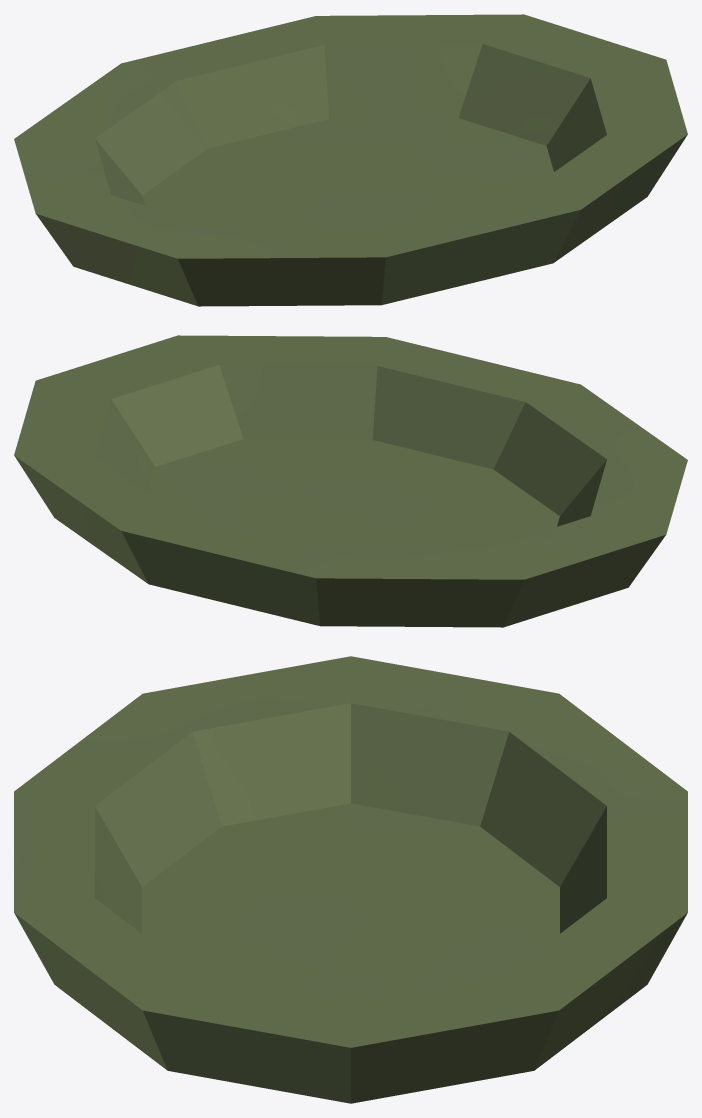
Rendered from WarrensC_WVC059_Platter_Mars_SM.fbx.
3 views of the same model, one above another, from view 1: azimuth 30°, elevation 25°; view 2: azimuth 150°, elevation 25°; view 3: azimuth 270°, elevation 25° (orthographic). The views are drawn at different scales.
Parts seen in each view (by area): view 1: WarrensC_WVC059_Platter_Mars_SM.001; view 2: WarrensC_WVC059_Platter_Mars_SM.001; view 3: WarrensC_WVC059_Platter_Mars_SM.001.
Part boxes in pixels (x1,y1,x2,y2): WarrensC_WVC059_Platter_Mars_SM.001: (14, 14, 687, 306); WarrensC_WVC059_Platter_Mars_SM.001: (14, 335, 687, 627); WarrensC_WVC059_Platter_Mars_SM.001: (14, 656, 687, 1103).
Size of the model in its own units: 55 by 40 by 7.
